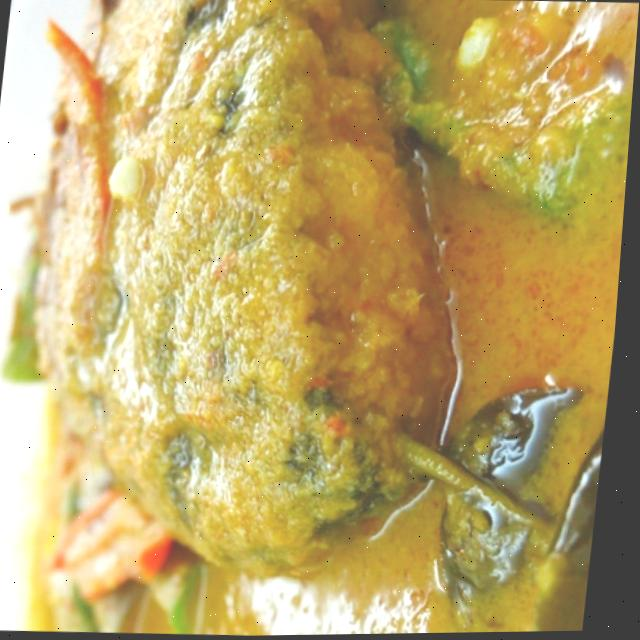熟制海鲜: (0, 0, 631, 629)
